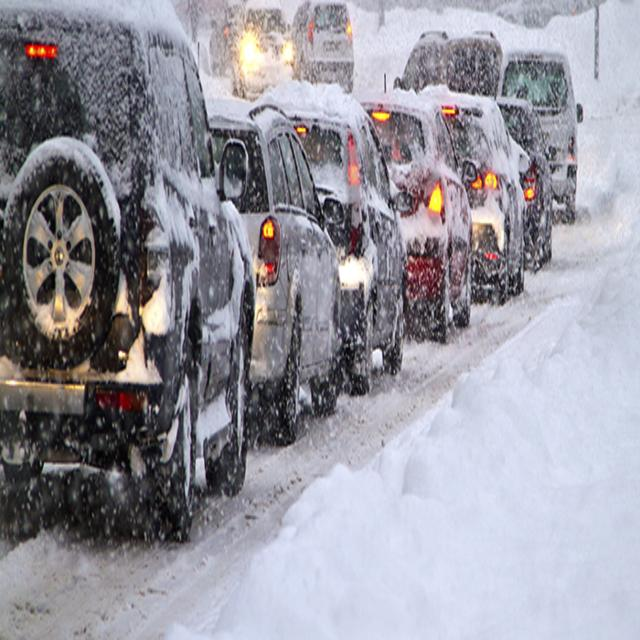car: (3, 14, 252, 532), (208, 104, 344, 451), (263, 87, 401, 391), (394, 78, 526, 309), (362, 91, 481, 338), (496, 55, 580, 237), (512, 98, 550, 272), (292, 0, 356, 89), (235, 10, 292, 85)
